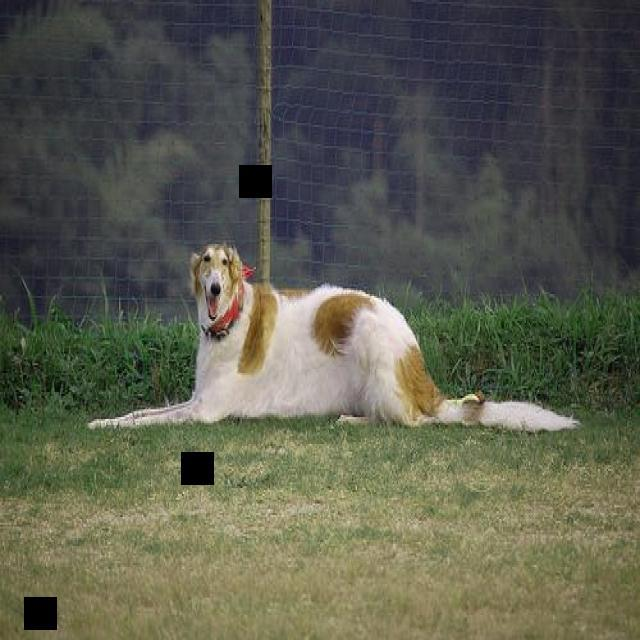adult_dog: (83, 235, 591, 436)
